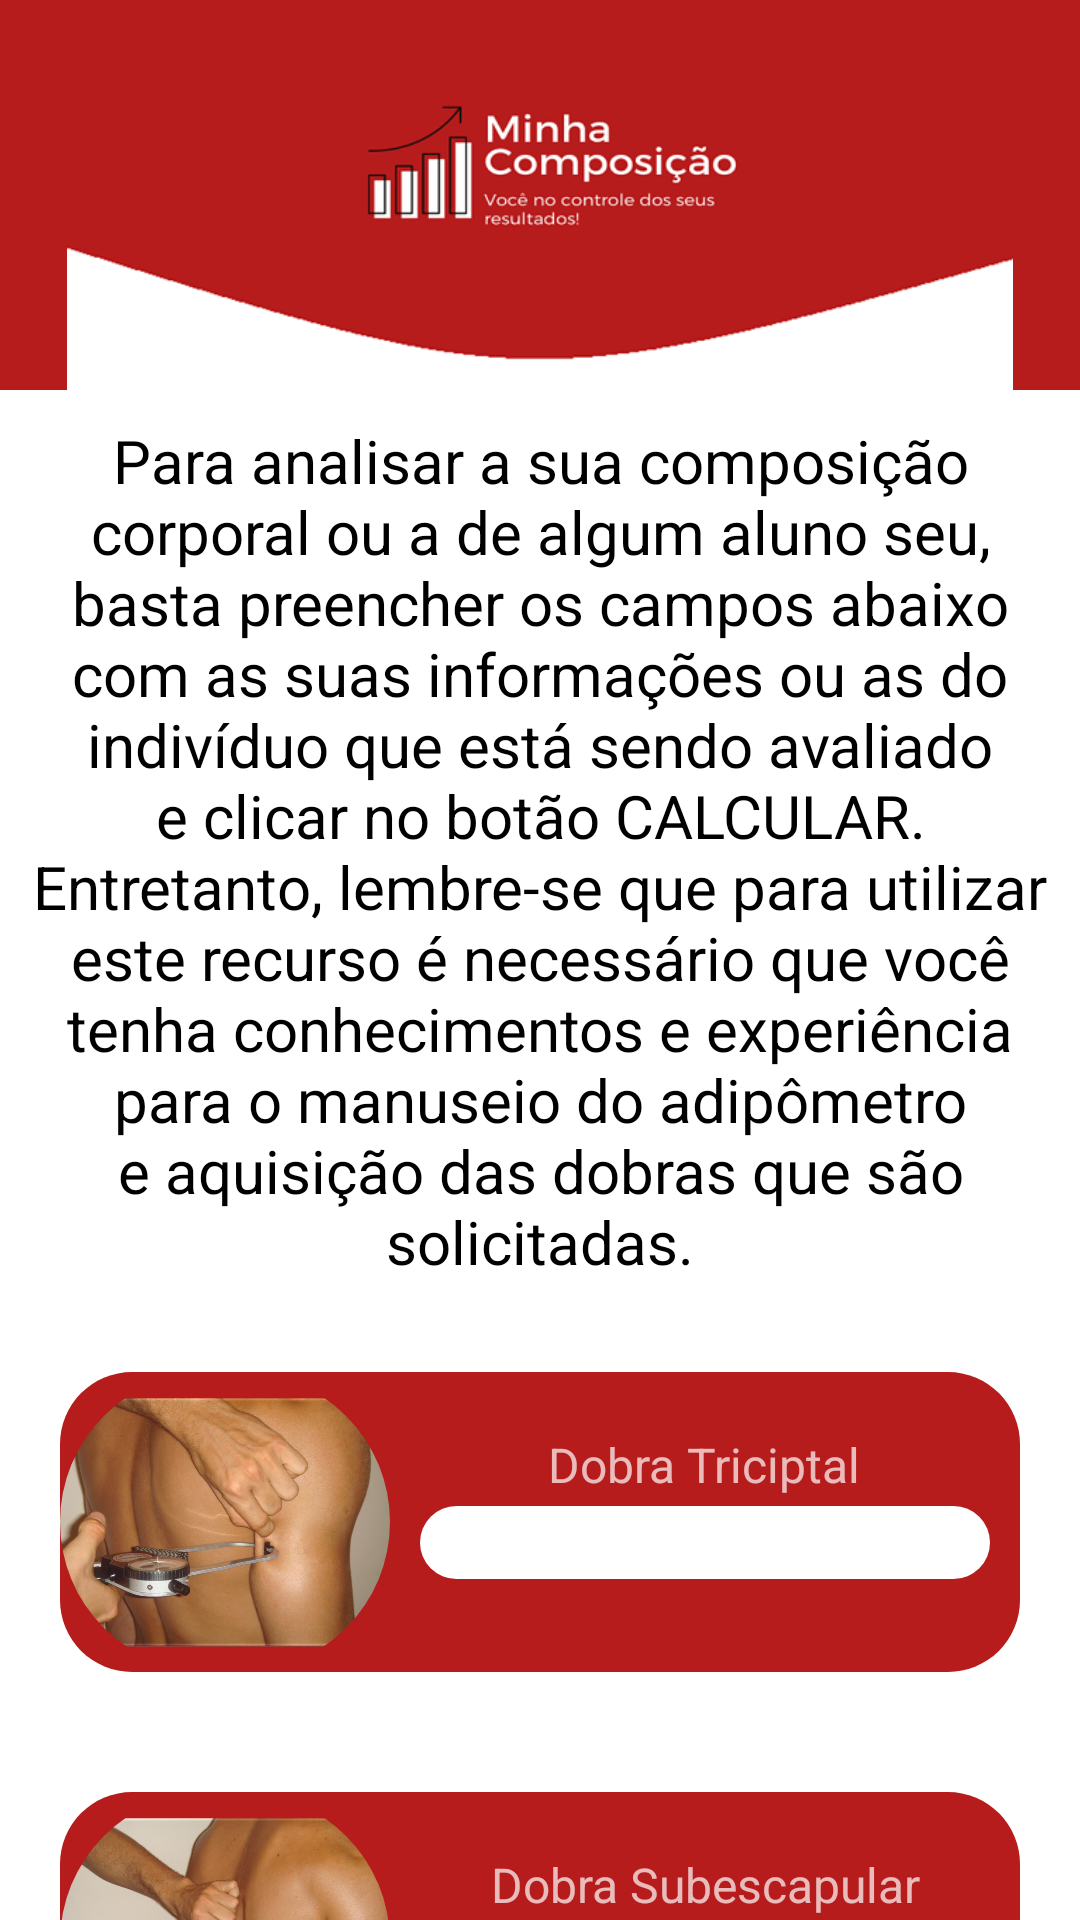

Named icons in this screenshot (1080x1920) and their centers, (x=x, y=y):
dobra triciptal: (x=225, y=1522)
